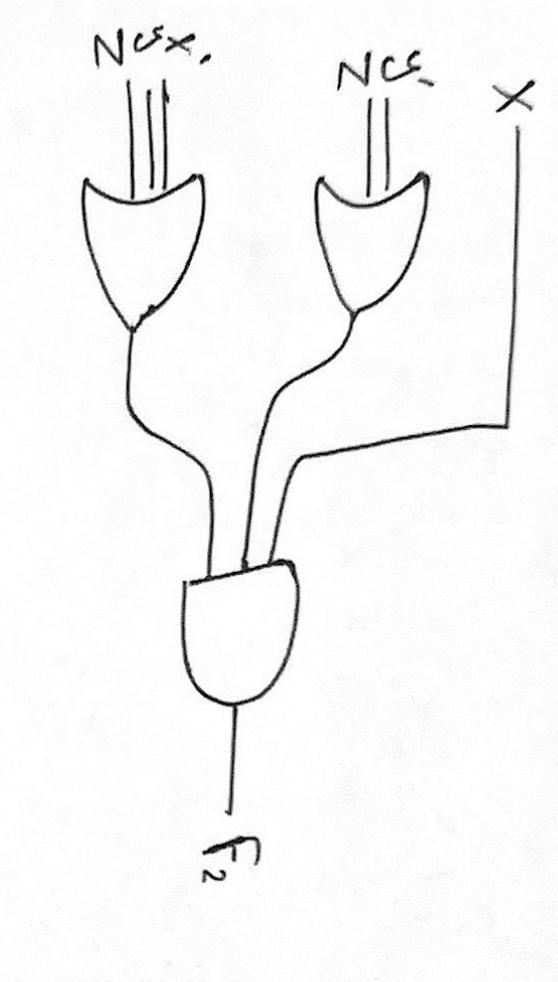AND: (140, 550, 332, 736)
OR: (64, 162, 227, 360), (288, 156, 445, 330)
